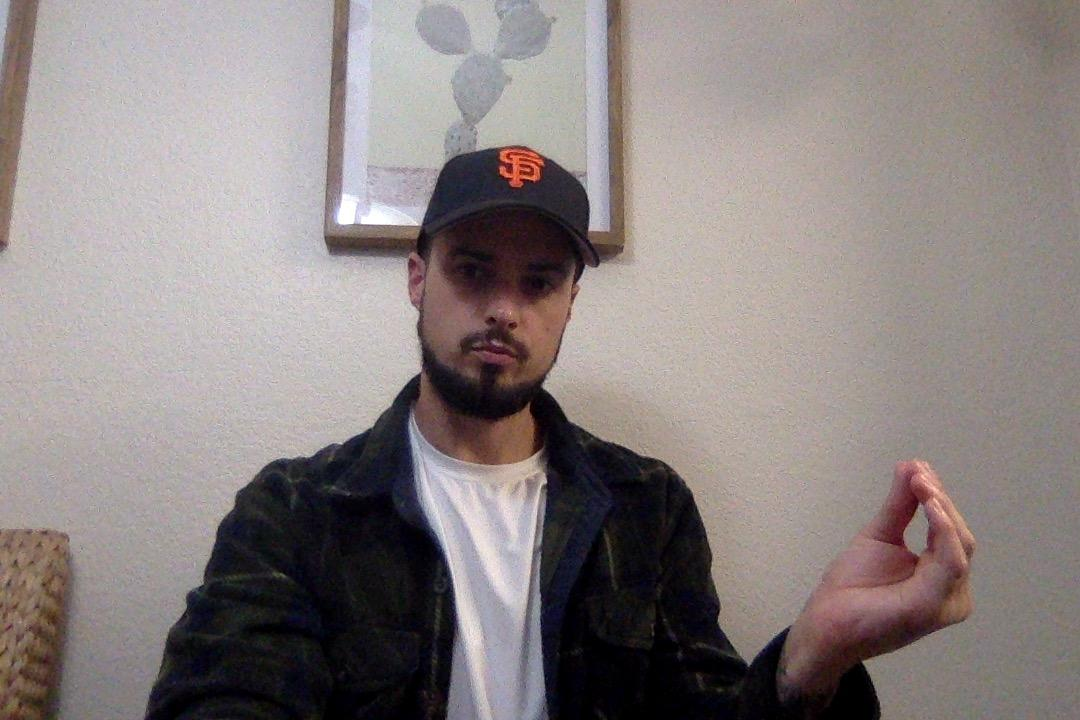Italian-Gesture: (805, 452, 980, 687)
